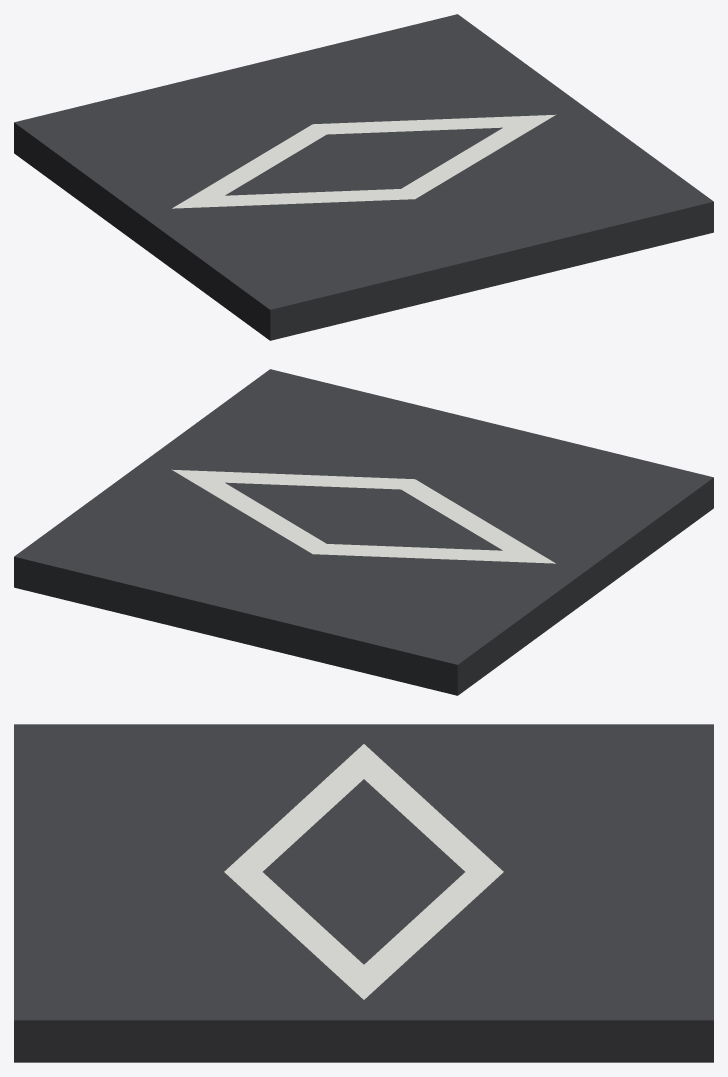
The model's file is SC_Gnd_Road_Crosswalk_Ahead_3x3.gltf.
3 views of the same model, one above another, from view 1: azimuth 30°, elevation 25°; view 2: azimuth 150°, elevation 25°; view 3: azimuth 270°, elevation 25° (orthographic). The views are drawn at different scales.
Visible parts, largest first — view 1: SC_Gnd_Road_Crosswalk_Ahead_3x3; view 2: SC_Gnd_Road_Crosswalk_Ahead_3x3; view 3: SC_Gnd_Road_Crosswalk_Ahead_3x3.
Boxes of the visible parts, box(x1,y1,x2,y2) form: SC_Gnd_Road_Crosswalk_Ahead_3x3: box(14, 14, 713, 340); SC_Gnd_Road_Crosswalk_Ahead_3x3: box(14, 369, 713, 695); SC_Gnd_Road_Crosswalk_Ahead_3x3: box(14, 724, 713, 1062).
Size of the model in its own units: 3 by 0.202 by 3.
Materials: 1 (1 with a texture image).
